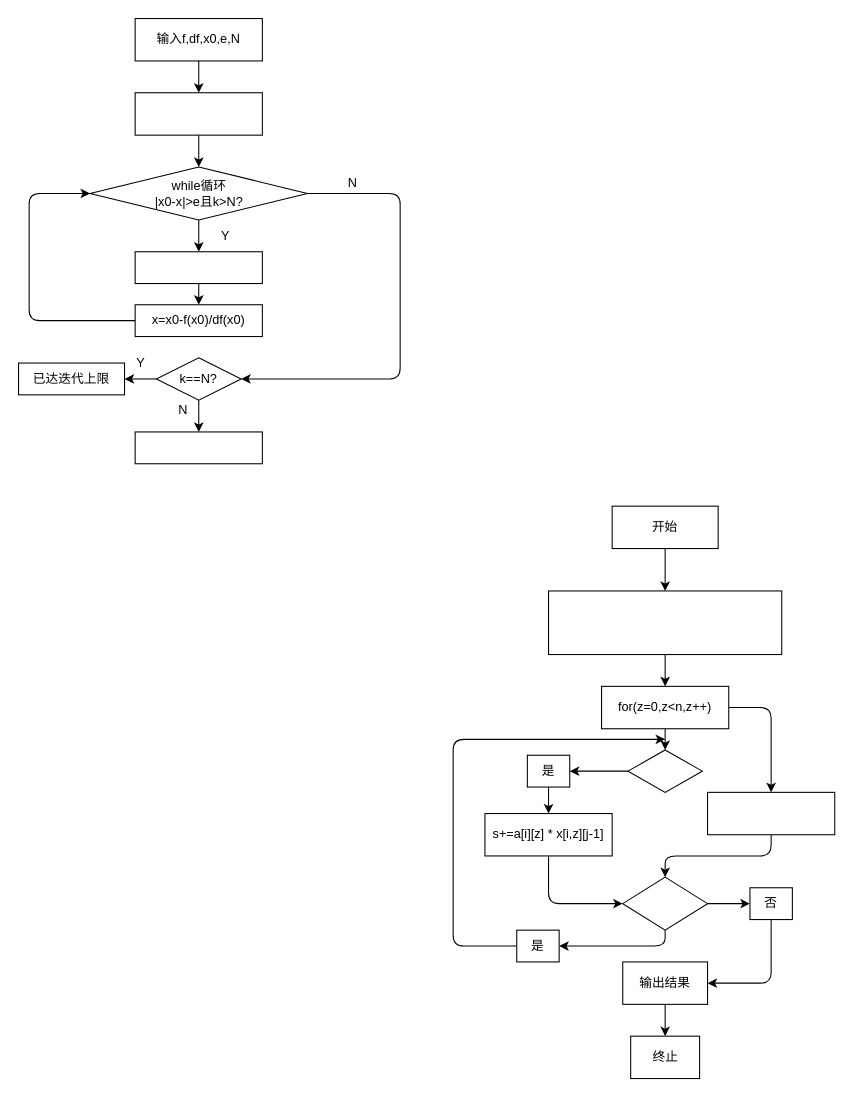
Image size: 853x1097. Some labels were removed from this diagram. The box of each missing label's shape, as (x1, y1, x2, y2) in pixels:
k=k+1,x0=x: (134, 251, 262, 284)
s+=a[i][z] * x[i,z][j]: (706, 791, 835, 835)
x=x0,x0=x+2e,k=0: (134, 92, 262, 135)
z>i?: (627, 749, 702, 792)
误差>theta: (622, 876, 708, 930)
输入n，系数矩阵A，矩阵B，精度theta，循环次数Max，输出精度控制pre: (547, 590, 782, 655)
输出近似解x: (134, 431, 262, 464)
